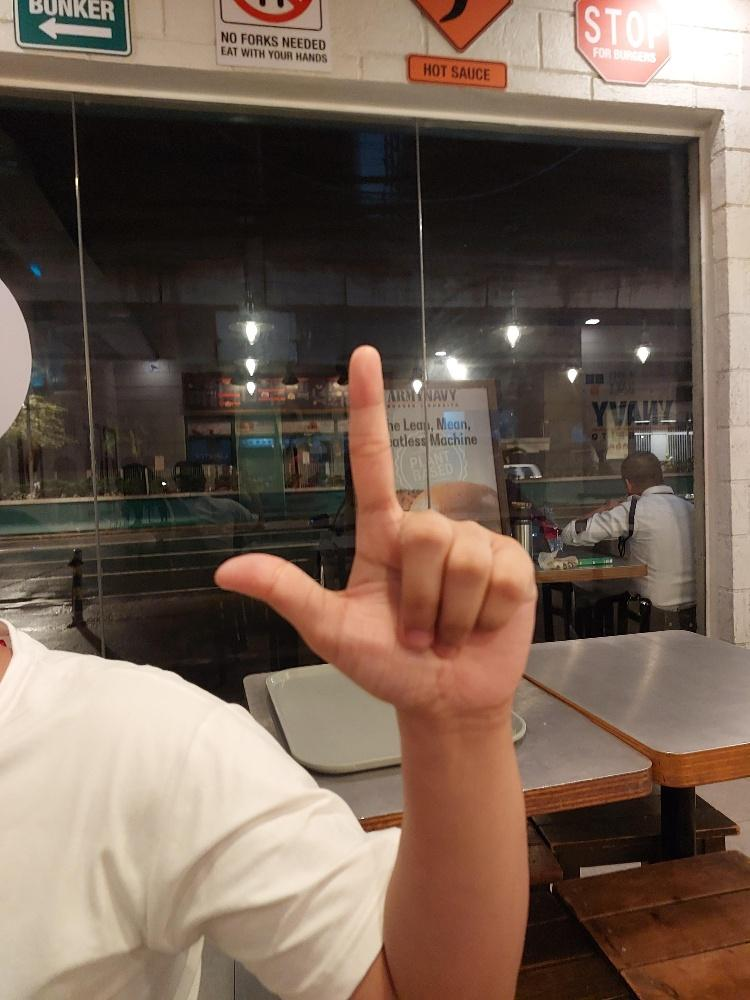l: (211, 340, 539, 716)
